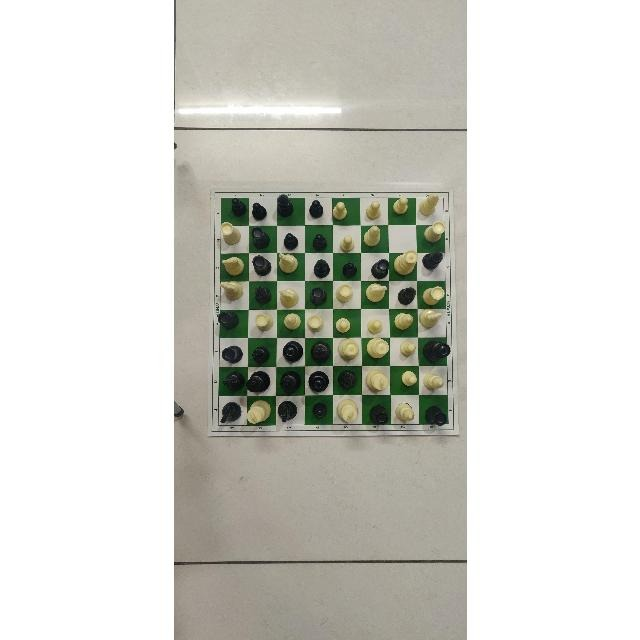black-bishop: (276, 193, 294, 217), (421, 251, 443, 269), (251, 286, 270, 304), (250, 346, 269, 364), (397, 287, 415, 304), (313, 260, 329, 278)
black-king: (245, 370, 269, 396), (279, 371, 301, 393), (310, 340, 330, 363)
black-knight: (221, 371, 245, 391), (219, 401, 240, 422), (277, 401, 297, 423), (337, 370, 357, 389)
black-pawn: (230, 197, 246, 216), (307, 199, 322, 218), (250, 203, 265, 221), (311, 233, 326, 251), (341, 262, 356, 278), (283, 232, 297, 249), (311, 402, 326, 417)
black-queen: (422, 340, 450, 363), (281, 340, 302, 361), (308, 370, 328, 391)
black-rook: (250, 225, 270, 249), (424, 406, 446, 426), (216, 310, 238, 329), (251, 256, 271, 276), (220, 345, 242, 363), (370, 259, 389, 279), (369, 405, 387, 425), (309, 286, 327, 306)
white-bishop: (418, 193, 438, 215), (394, 402, 414, 421), (362, 226, 380, 246), (422, 372, 443, 389), (393, 312, 412, 330), (283, 313, 300, 330)
white-king: (245, 400, 270, 424), (364, 369, 387, 391), (337, 398, 357, 422)
white-knight: (218, 280, 243, 300), (418, 308, 442, 328), (220, 257, 243, 276), (277, 252, 297, 273), (278, 288, 298, 308), (365, 283, 386, 302)
white-pawn: (331, 201, 347, 221), (392, 196, 408, 214), (364, 200, 379, 219), (400, 371, 416, 387), (339, 234, 354, 251), (399, 340, 415, 355), (366, 318, 381, 333), (334, 317, 349, 332)
white-queen: (393, 249, 417, 275), (337, 338, 359, 360), (366, 338, 388, 358)
white-rook: (423, 220, 445, 243), (218, 221, 239, 244), (421, 286, 444, 306), (253, 312, 272, 331), (334, 283, 352, 302), (306, 315, 324, 333)
